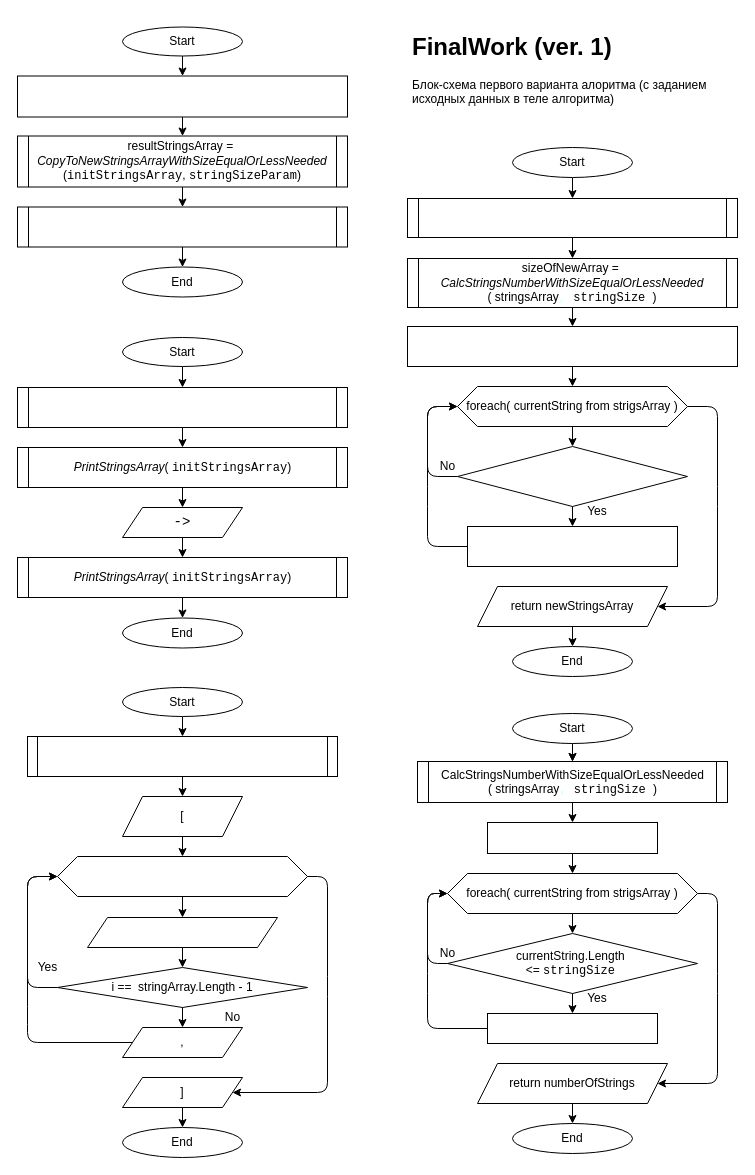
Some shapes in this 755 by 1175 pixel diagram are drawn without their labels. Each missing label, with the box of its shape:
"stringArray[ i ]": (86, 916, 278, 948)
CopyToNewStringsArrayWithSizeEqualOrLessNeeded ( stringsArray, stringSize ): (406, 198, 738, 238)
currentString .Length <= stringSizeParam: (456, 446, 688, 506)
i = 0; i < stringArray.Length; i++: (56, 856, 308, 896)
initStringsArray = ["hello", "2", "world", ":-)"] stringSizeParam = 3: (16, 75, 348, 117)
newStringsArray = new string[ sizeOfNewArray ] j = 0;: (406, 326, 738, 366)
newStringsArray[ j ] = currentString j++: (466, 526, 678, 566)
numberOfStrings = 0;: (486, 822, 658, 854)
numberOfStrings++: (486, 1012, 658, 1044)
PrintStringsArray( stringArray ): (26, 736, 338, 776)
PrintTwoStringsArrays ( initStringsArray, resultStringsArray ): (16, 206, 348, 247)
PrintTwoStringsArrays( initStringsArray, resultStringsArray ): (16, 386, 348, 428)
